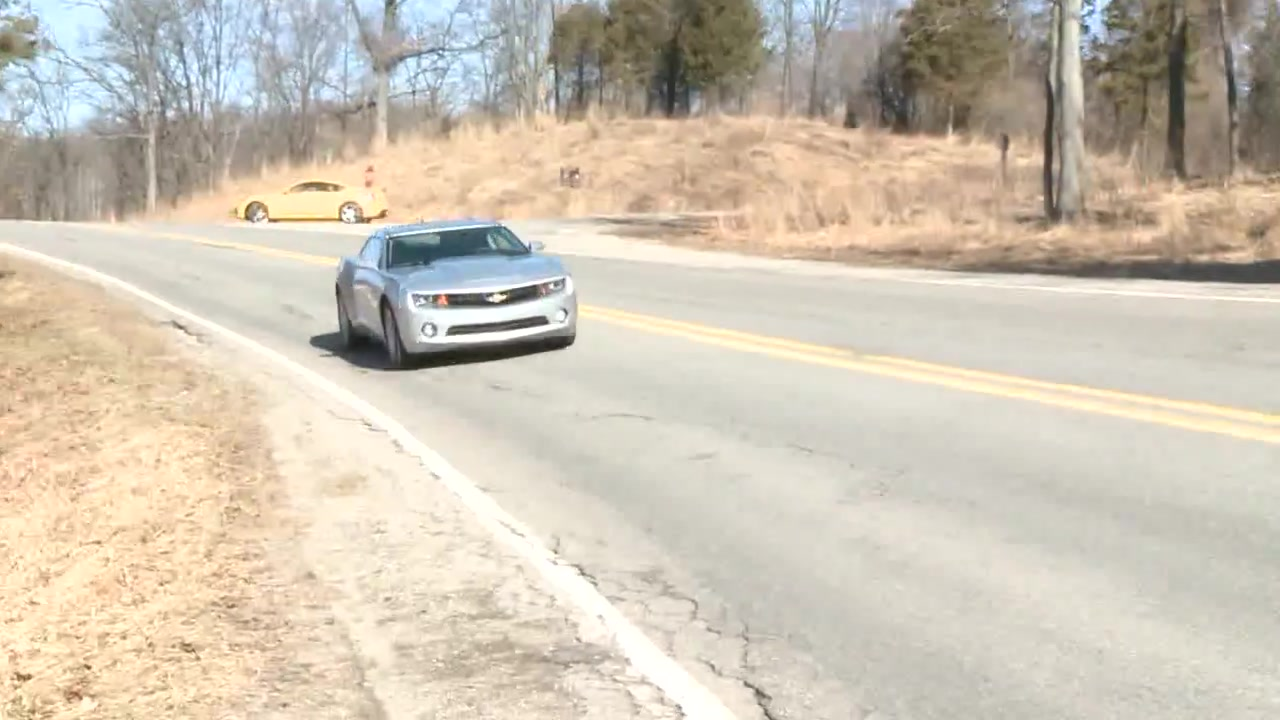car: (329, 215, 580, 367)
